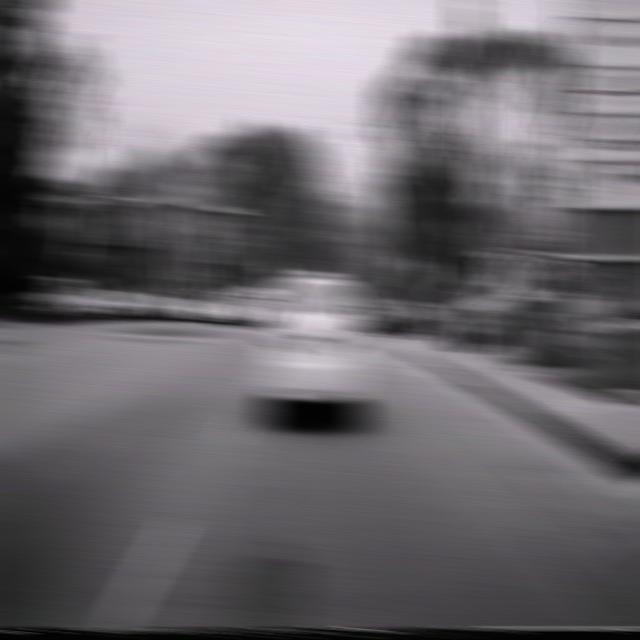stop_sign: (415, 258, 438, 281)
